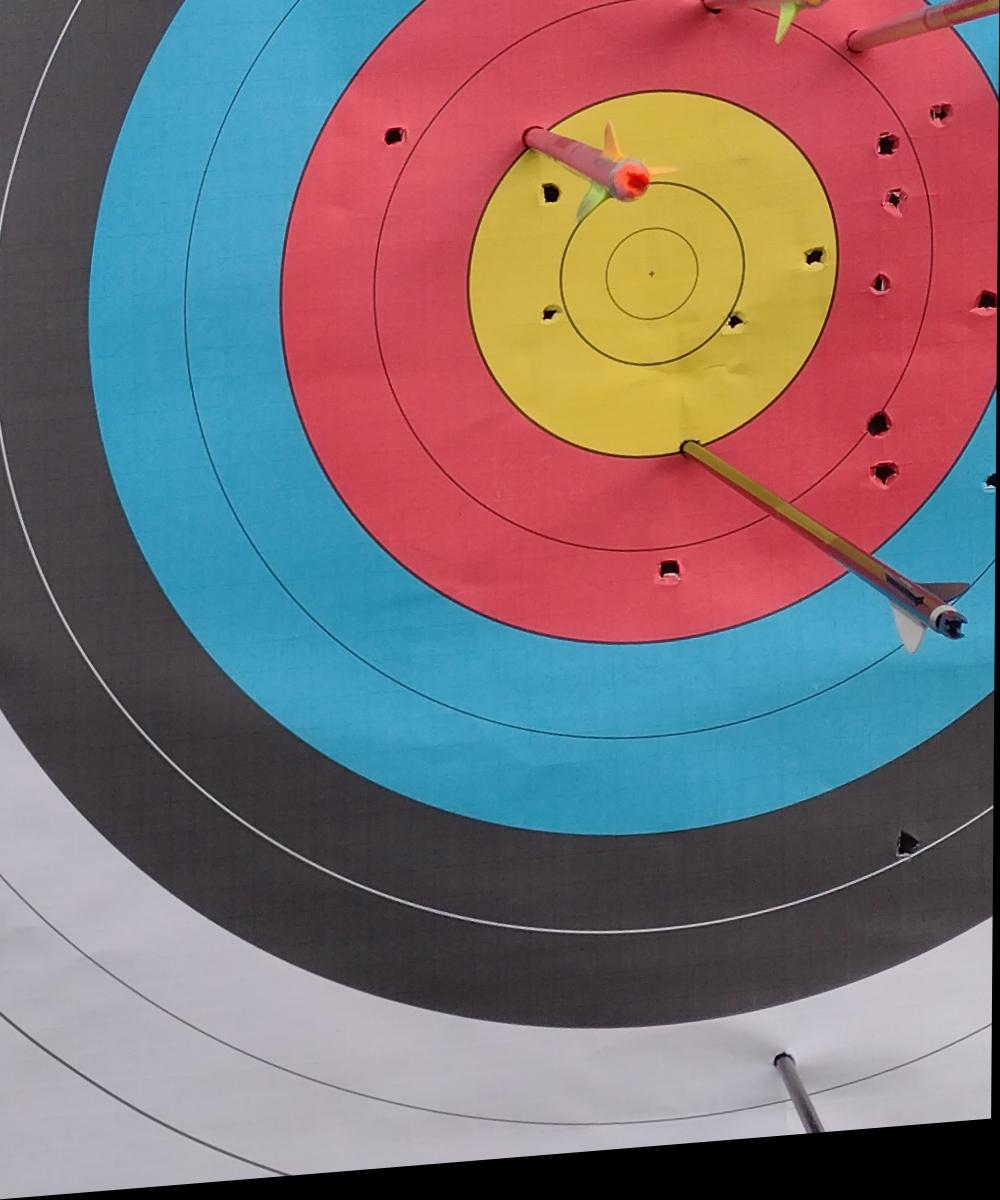10-Ring: (523, 157, 781, 416)
4-Ring: (0, 0, 1000, 936)
5-Ring: (89, 0, 1000, 847)
6-Ring: (186, 0, 1000, 752)
7-Ring: (283, 0, 999, 654)
9-Ring: (397, 29, 907, 545)
Arrow: (647, 449, 987, 687), (522, 83, 682, 245), (707, 0, 844, 58)
